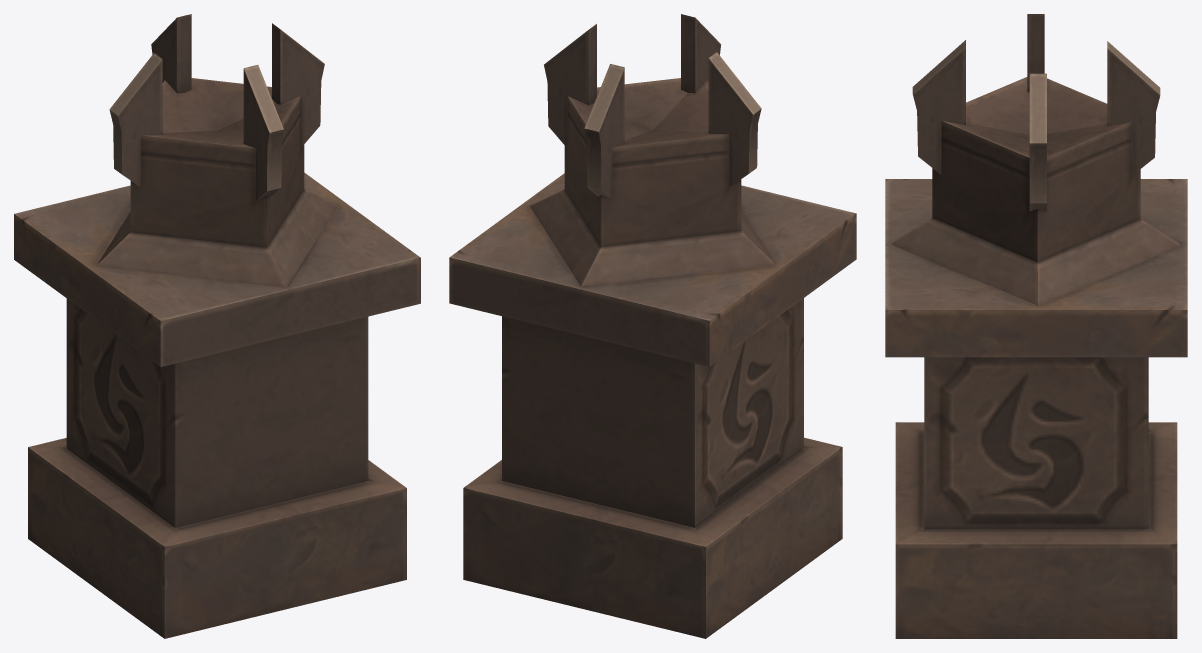
Rendered from huoshan_Wujian_01.FBX.
3 renders of one model, left to right at view 1: azimuth 30°, elevation 25°; view 2: azimuth 150°, elevation 25°; view 3: azimuth 270°, elevation 25°, orthographic. The views are drawn at different scales.
Parts seen in each view (by area): view 1: huoshan_Wujian_01; view 2: huoshan_Wujian_01; view 3: huoshan_Wujian_01.
Boxes of the visible parts, x1,y1,x2,y2 form: huoshan_Wujian_01: (14, 14, 420, 638); huoshan_Wujian_01: (449, 14, 856, 638); huoshan_Wujian_01: (885, 14, 1187, 638).
Bounding box in the file's own units: 97.52 × 186 × 95.26.
